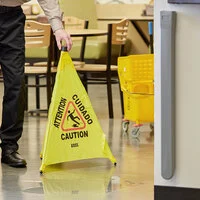wet caution sign: (36, 47, 122, 179)
